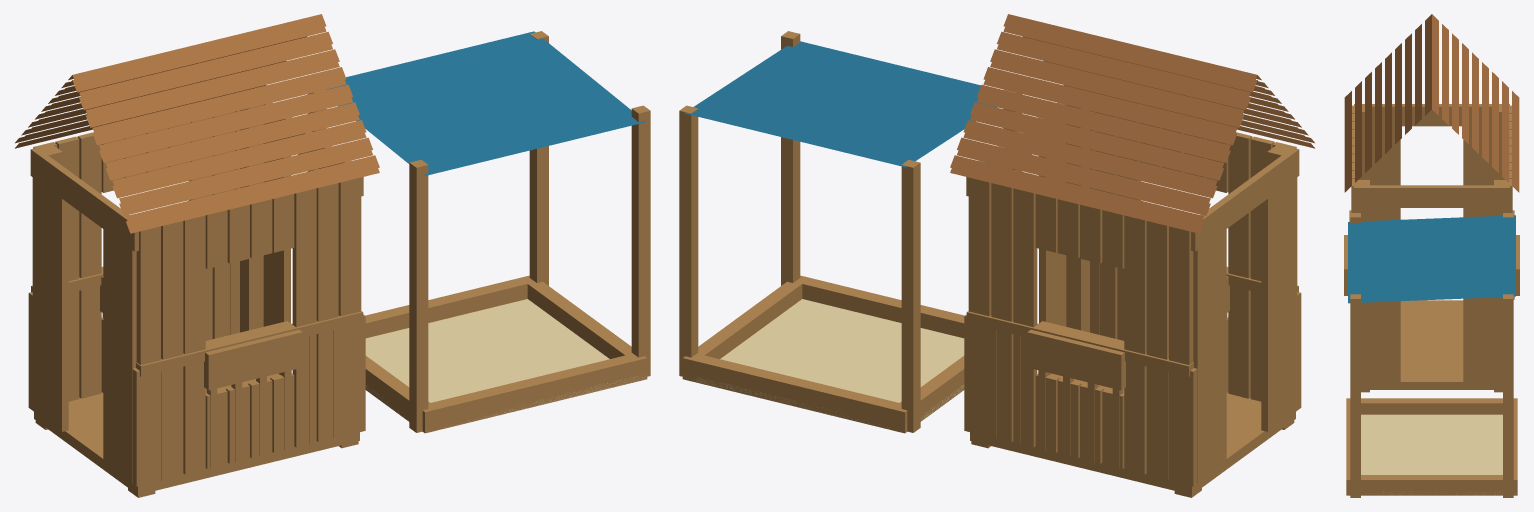
3 renders of one model, left to right at view 1: azimuth 30°, elevation 25°; view 2: azimuth 150°, elevation 25°; view 3: azimuth 270°, elevation 25°, orthographic. The views are drawn at different scales.
Parts seen in each view (by area): view 1: SW-Y310; view 2: SW-Y310; view 3: SW-Y310.
Boxes of the visible parts, x1=… form: SW-Y310: x1=15, y1=14, x2=650, y2=497; SW-Y310: x1=679, y1=14, x2=1314, y2=497; SW-Y310: x1=1344, y1=14, x2=1519, y2=497.
Bounding box in the file's own units: 3.1 × 2.2 × 1.2.
